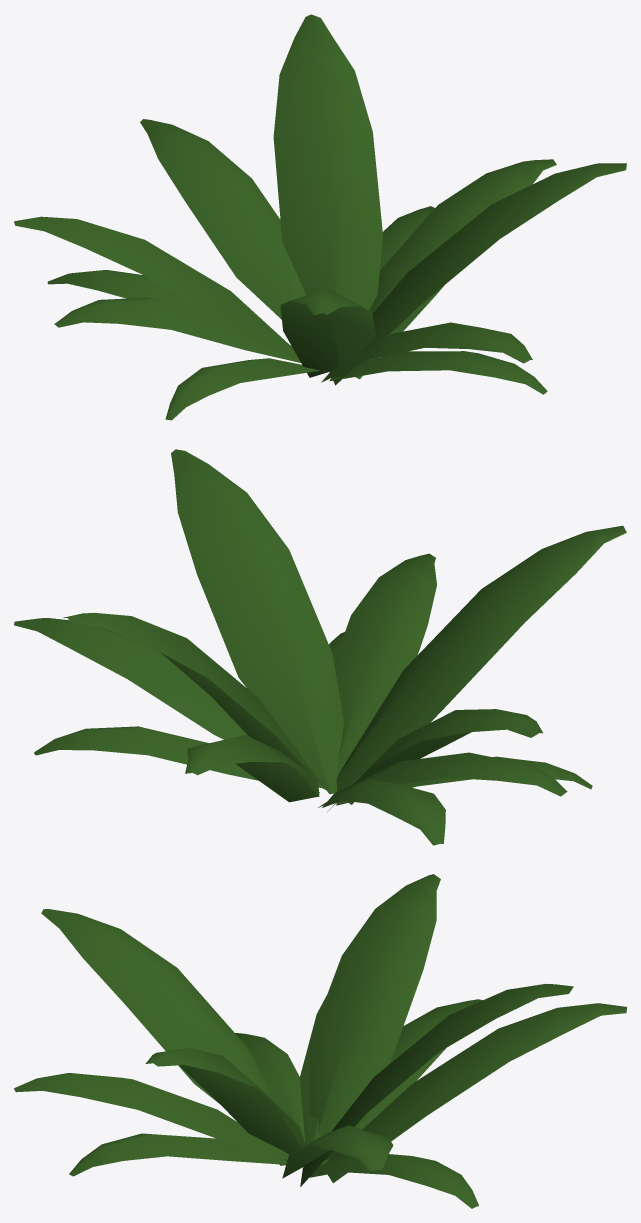
Rendered from SM_fern_tropical_01.fbx.
3 renders of one model, top to bottom at view 1: azimuth 30°, elevation 25°; view 2: azimuth 150°, elevation 25°; view 3: azimuth 270°, elevation 25°, orthographic. The views are drawn at different scales.
Visible parts, largest first — view 1: fern01; view 2: fern01; view 3: fern01.
Part boxes in pixels (box(x1,y1,x2,y2)): fern01: box(14, 14, 626, 420); fern01: box(14, 449, 626, 845); fern01: box(14, 874, 626, 1208).
Bounding box in the file's own units: 68.04 × 29.95 × 69.58.
